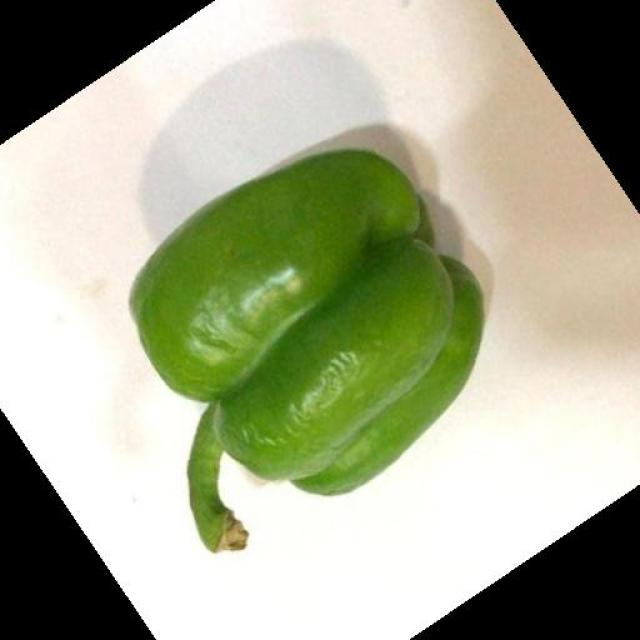Fresh_Capsicum: (124, 193, 522, 437)
